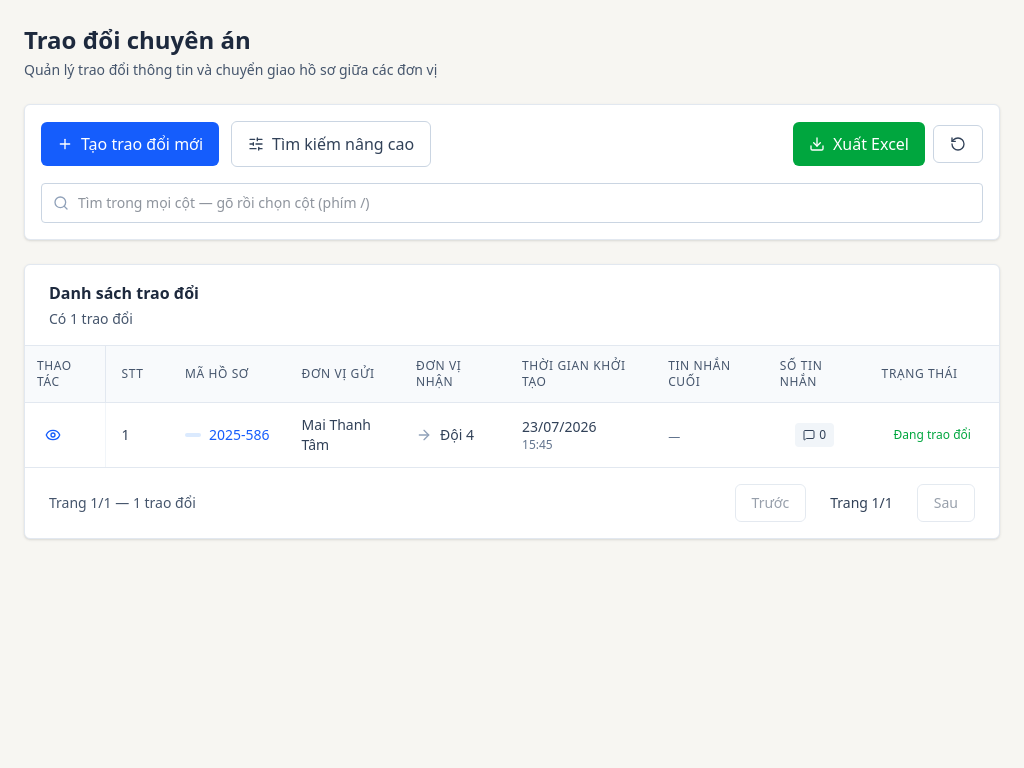
Test: CaseExchangePage — tìm kiếm phía máy chủ › tạo mới lỗi → NÓI ra lý do máy chủ, modal vẫn mở
Expected: the button with test id "view-thread-e1" is shown, [37,419,69,451]
Click the button with test id "create-exchange-btn".
click(130, 144)  # box [41,122,219,166]
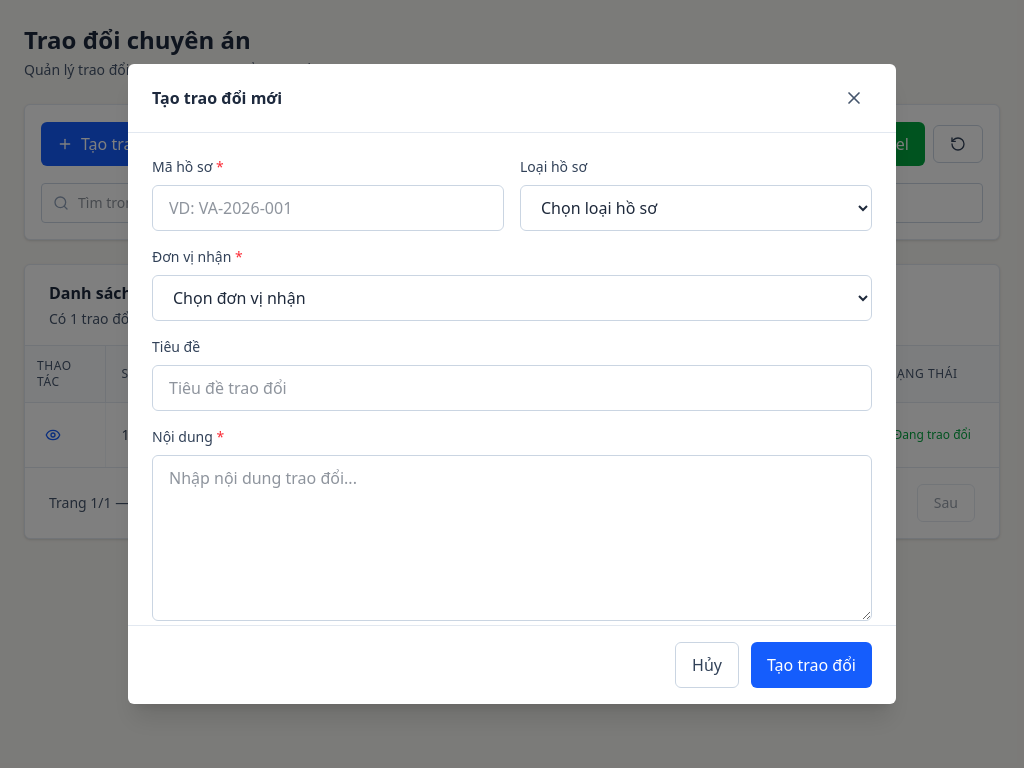
Type "2026-1" into the field with test id "exchange-record-code-input".
click(328, 208); type("2026-1")  # box [152,185,504,231]
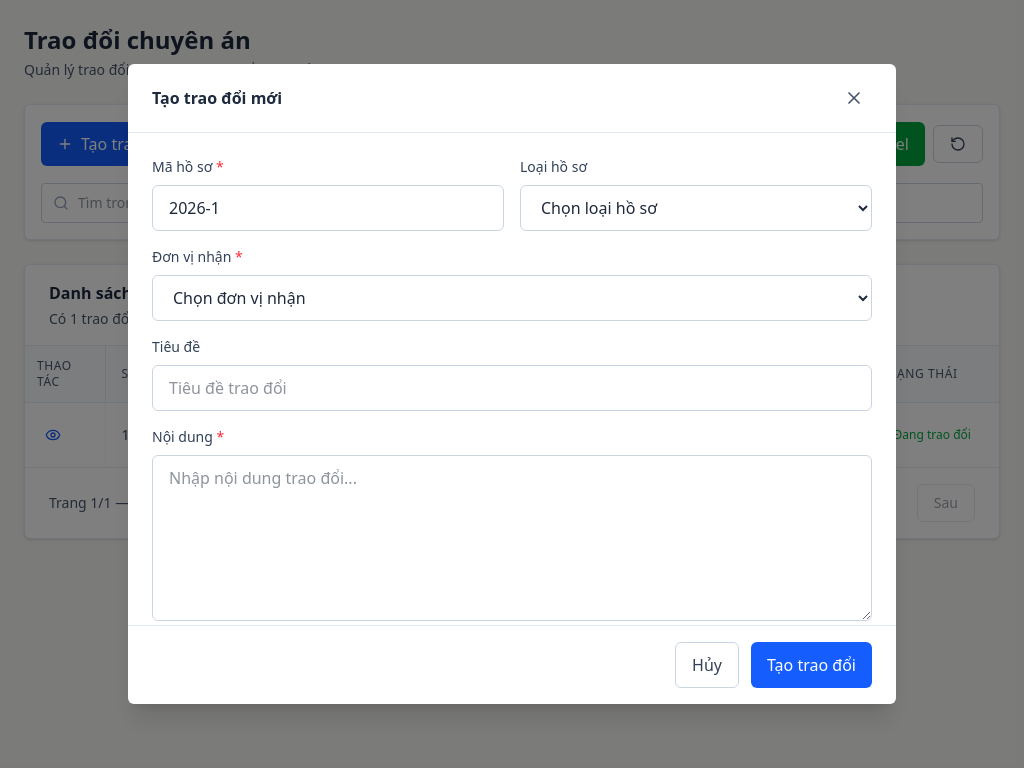
Select "Công an Thành phố" in the dropdown with test id "exchange-receiver-unit-select" at {"x": 512, "y": 298}, box [152,275,872,321]
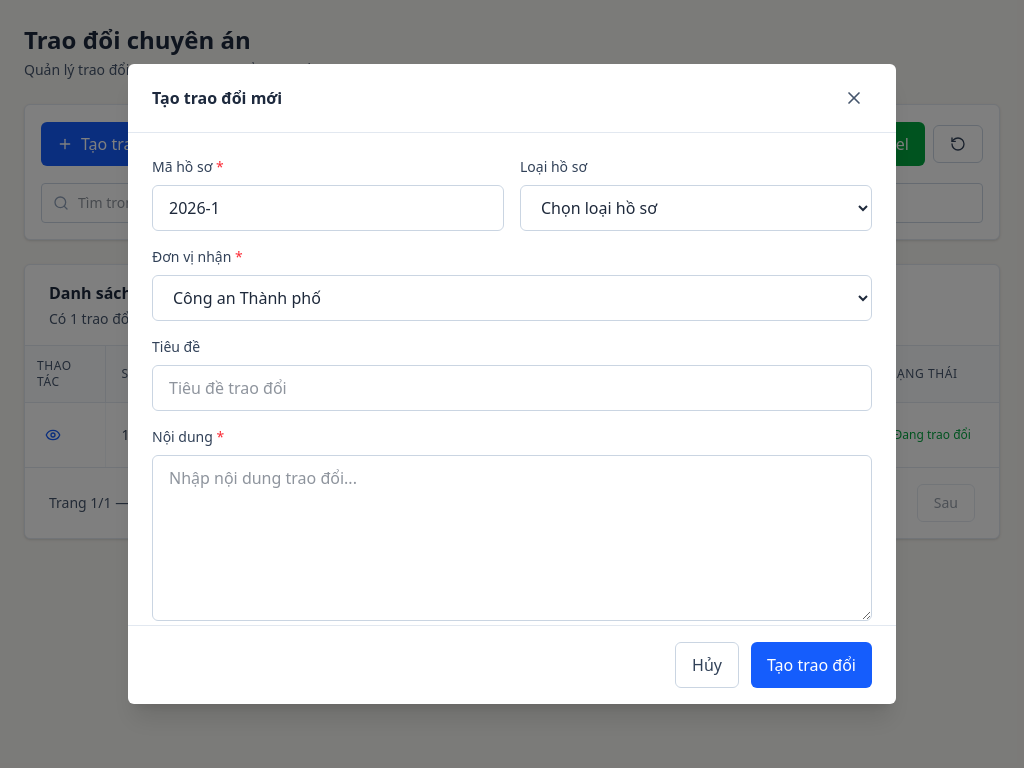
Type "Xin trao đổi hồ sơ" into the text box with test id "exchange-content-textarea".
click(512, 538); type("Xin trao đổi hồ sơ")  # box [152,455,872,621]
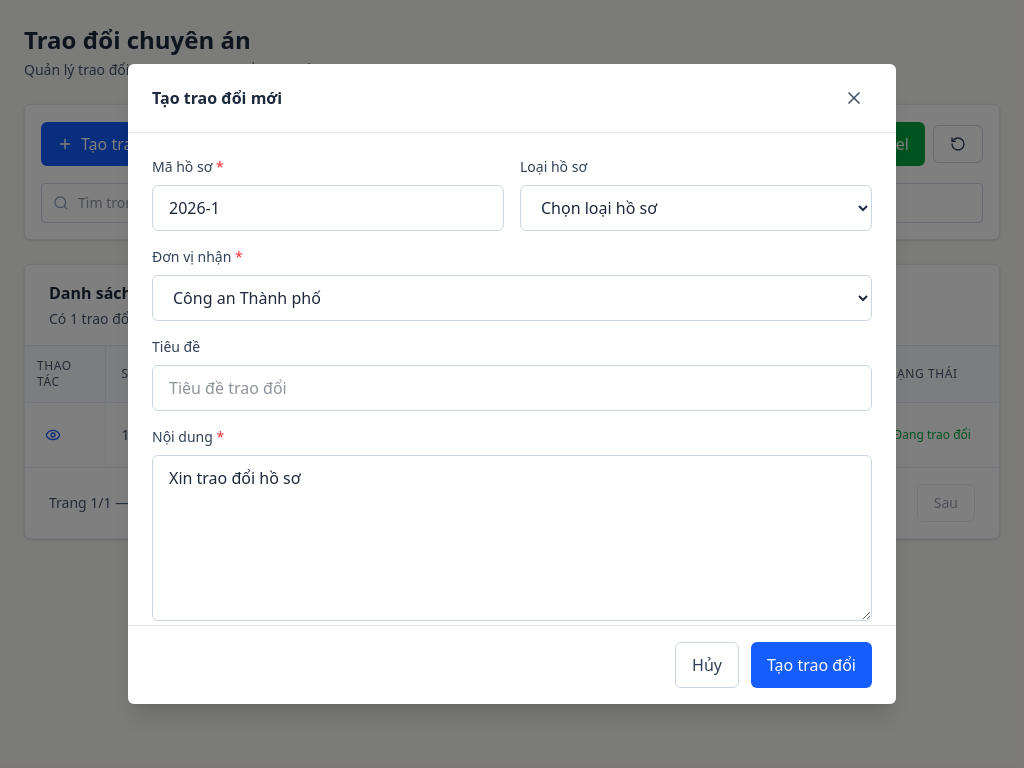
Click the button with test id "submit-exchange-btn".
click(812, 665)  # box [751,642,872,688]
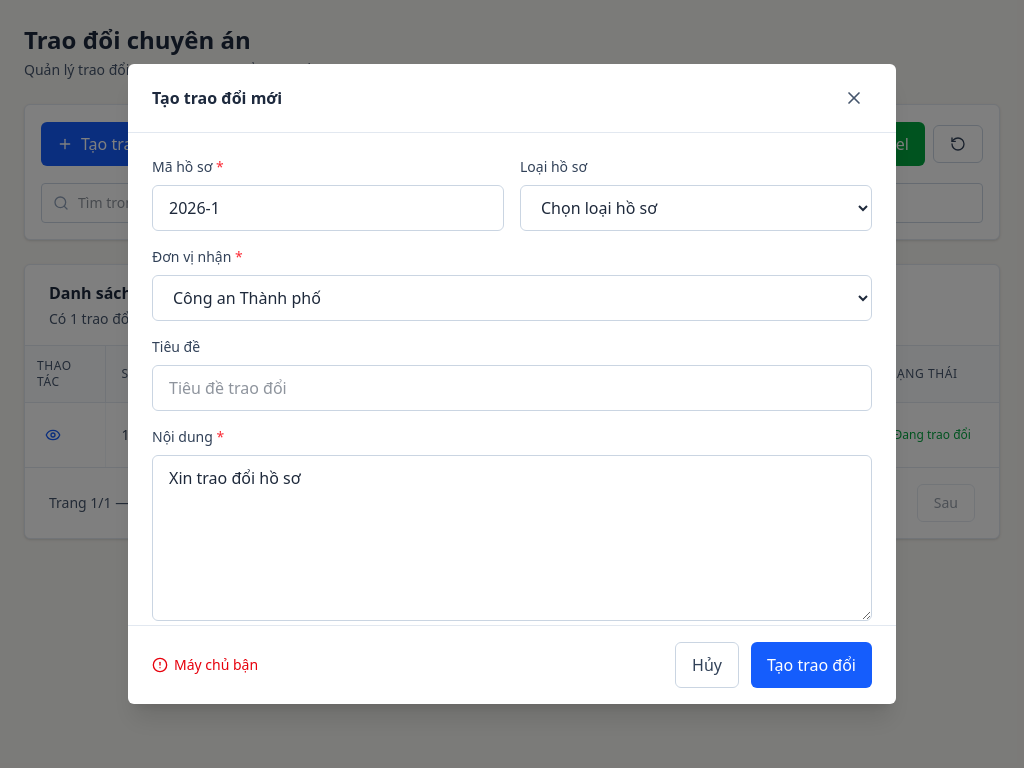
Now the element with test id "exchange-modal" is shown
Now the message with test id "exchange-save-error" reads "Máy chủ bận", box [174,655,258,674]
